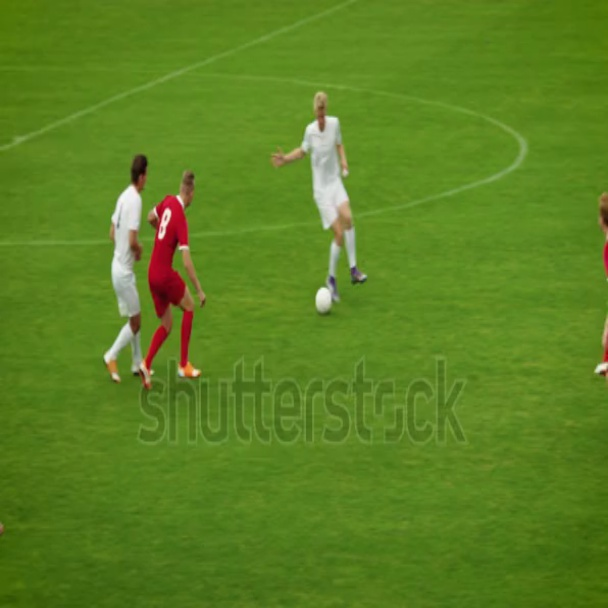ball: (316, 284, 333, 319)
